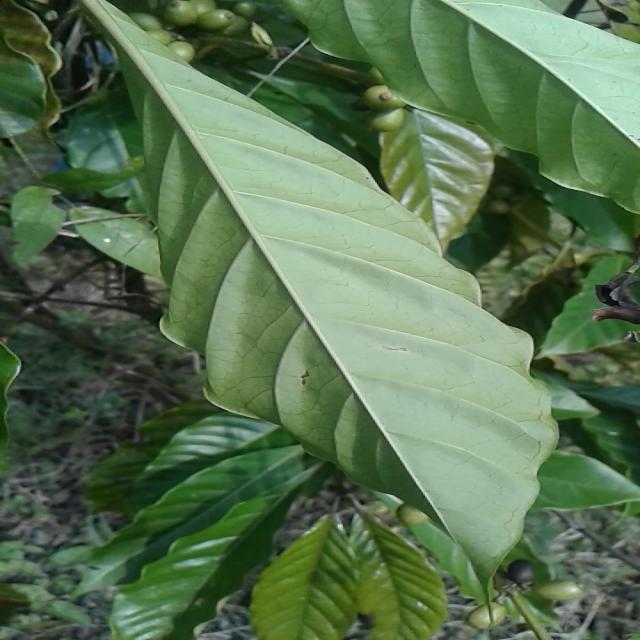Sanas: (76, 0, 598, 608)
